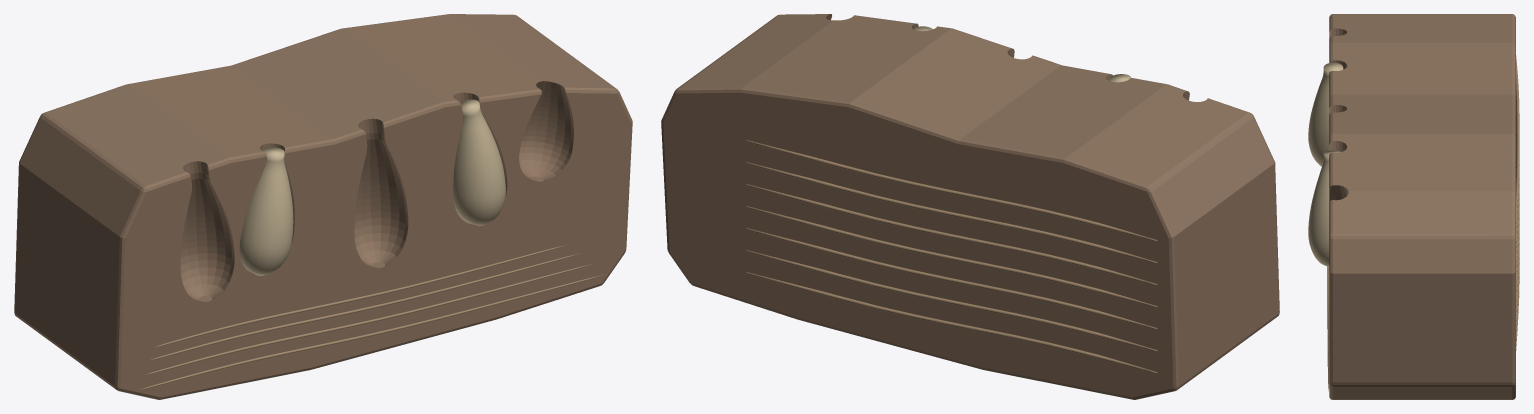
File: teredolites-wood-boring-cast.glb
3 renders of one model, left to right at view 1: azimuth 30°, elevation 25°; view 2: azimuth 150°, elevation 25°; view 3: azimuth 270°, elevation 25°, orthographic. The views are drawn at different scales.
Visible parts, largest first — view 1: Sectioned fossil wood host, Restrained longitudinal wood fibers, Exposed matching club cast 3, Exposed matching club cast 1; view 2: Sectioned fossil wood host, Restrained longitudinal wood fibers; view 3: Sectioned fossil wood host, Exposed matching club cast 3, Exposed matching club cast 1, Restrained longitudinal wood fibers.
Boxes of the visible parts, x1,y1,x2,y2 form: Sectioned fossil wood host: [14, 14, 632, 399]; Restrained longitudinal wood fibers: [138, 244, 606, 390]; Exposed matching club cast 3: [453, 99, 505, 225]; Exposed matching club cast 1: [239, 147, 293, 275]; Sectioned fossil wood host: [661, 14, 1279, 399]; Restrained longitudinal wood fibers: [746, 140, 1157, 373]; Sectioned fossil wood host: [1329, 14, 1515, 399]; Exposed matching club cast 3: [1308, 150, 1340, 267]; Exposed matching club cast 1: [1308, 62, 1343, 166]; Restrained longitudinal wood fibers: [1327, 55, 1519, 391].
Bounding box in the file's own units: 0.32 × 0.139 × 0.1268.
